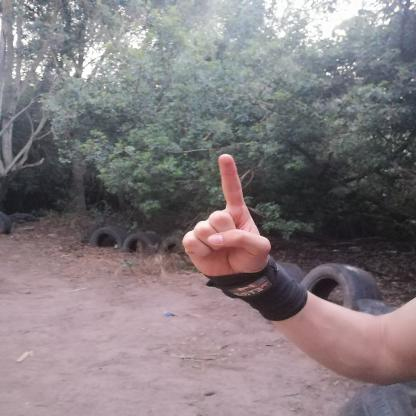BAA: (173, 142, 276, 289)
